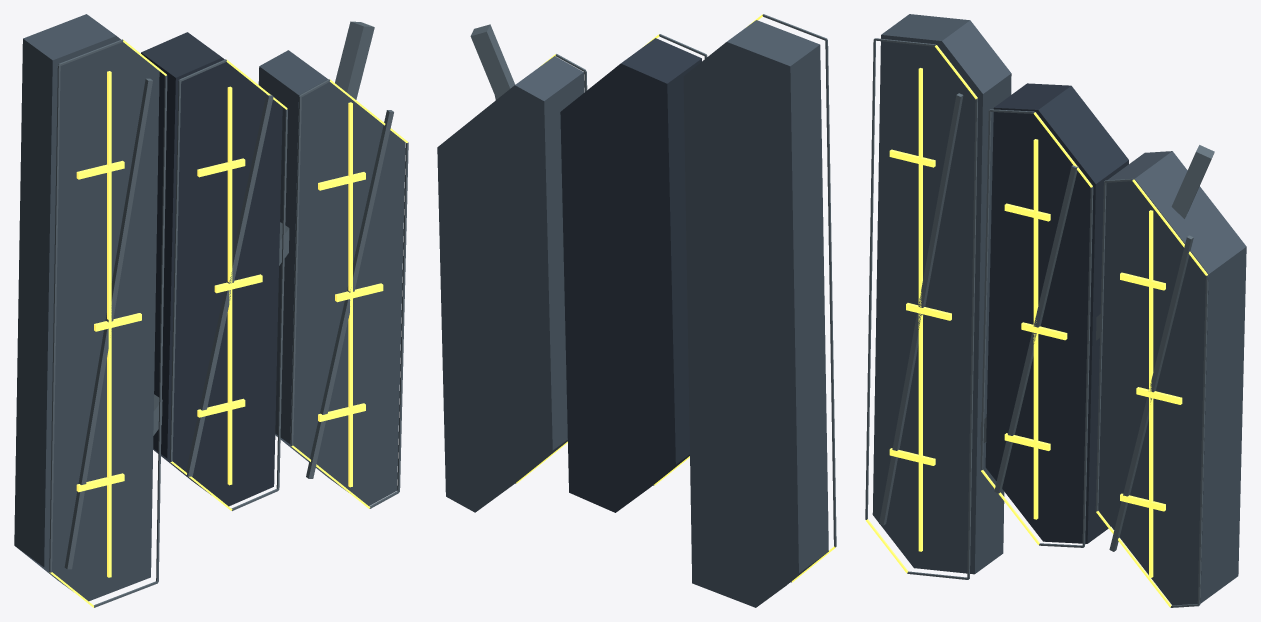
File: broken_baffle.glb
3 views of the same model, side by side, from view 1: azimuth 30°, elevation 25°; view 2: azimuth 150°, elevation 25°; view 3: azimuth 330°, elevation 25° (orthographic). The views are drawn at different scales.
Parts seen in each view (by area): view 1: broken_baffle; view 2: broken_baffle; view 3: broken_baffle.
Boxes of the visible parts, x1,y1,x2,y2 form: broken_baffle: (14,14,408,607); broken_baffle: (437,14,836,607); broken_baffle: (865,14,1246,607).
Size of the model in its own units: 41.6 by 62.2 by 8.7.
